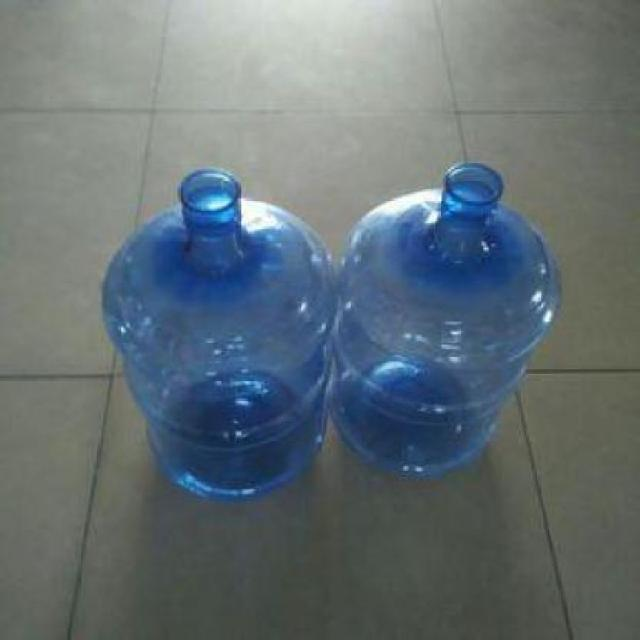coolerbottle: (97, 166, 341, 504), (330, 160, 568, 480)
